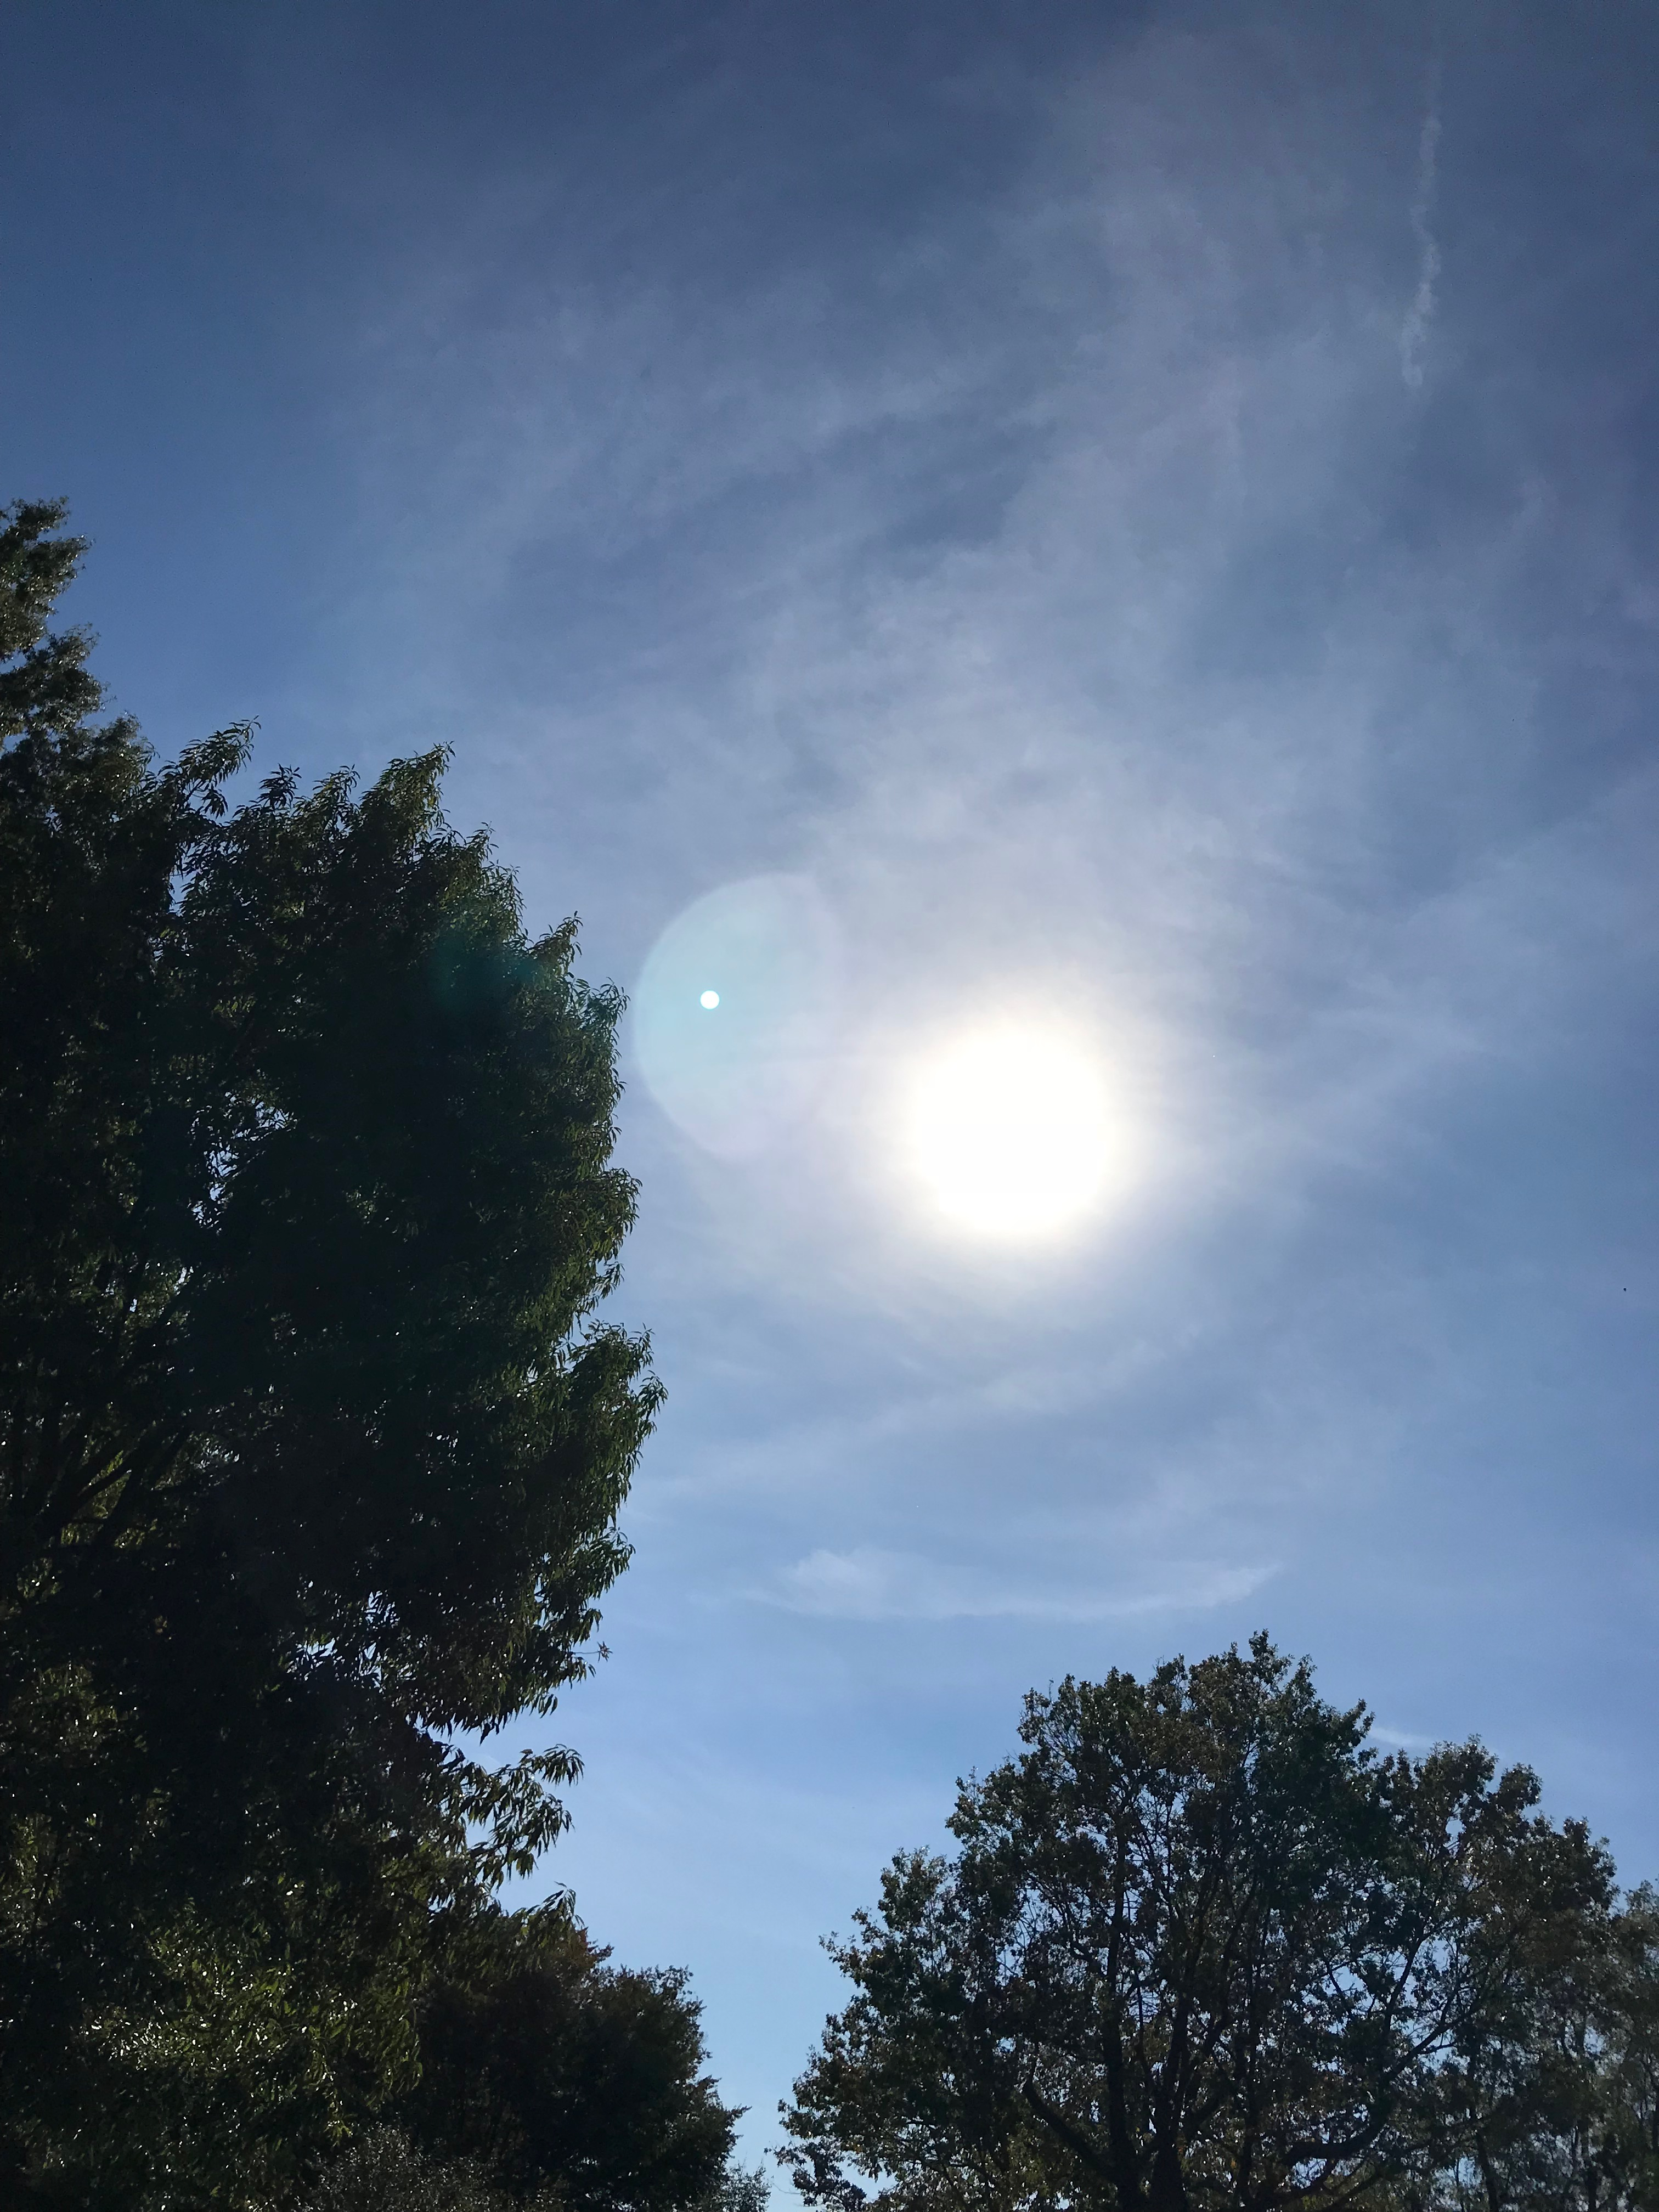flare: (697, 989, 721, 1012)
